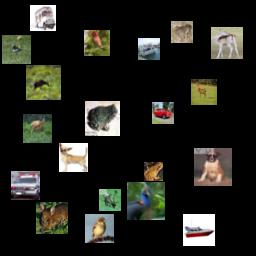automobile: (11, 171, 40, 200), (152, 102, 174, 124)
bird: (127, 182, 165, 220), (85, 214, 114, 243), (2, 35, 31, 64), (84, 30, 110, 56)
deer: (26, 65, 61, 100), (36, 202, 68, 234), (211, 27, 243, 59), (23, 114, 52, 143), (191, 79, 217, 105), (99, 189, 121, 211)
dog: (194, 148, 232, 186), (59, 143, 88, 172)
frog: (85, 101, 120, 136), (171, 21, 193, 43), (144, 162, 163, 181)
ship: (183, 214, 215, 246), (138, 38, 160, 60)
truck: (30, 5, 56, 31)
